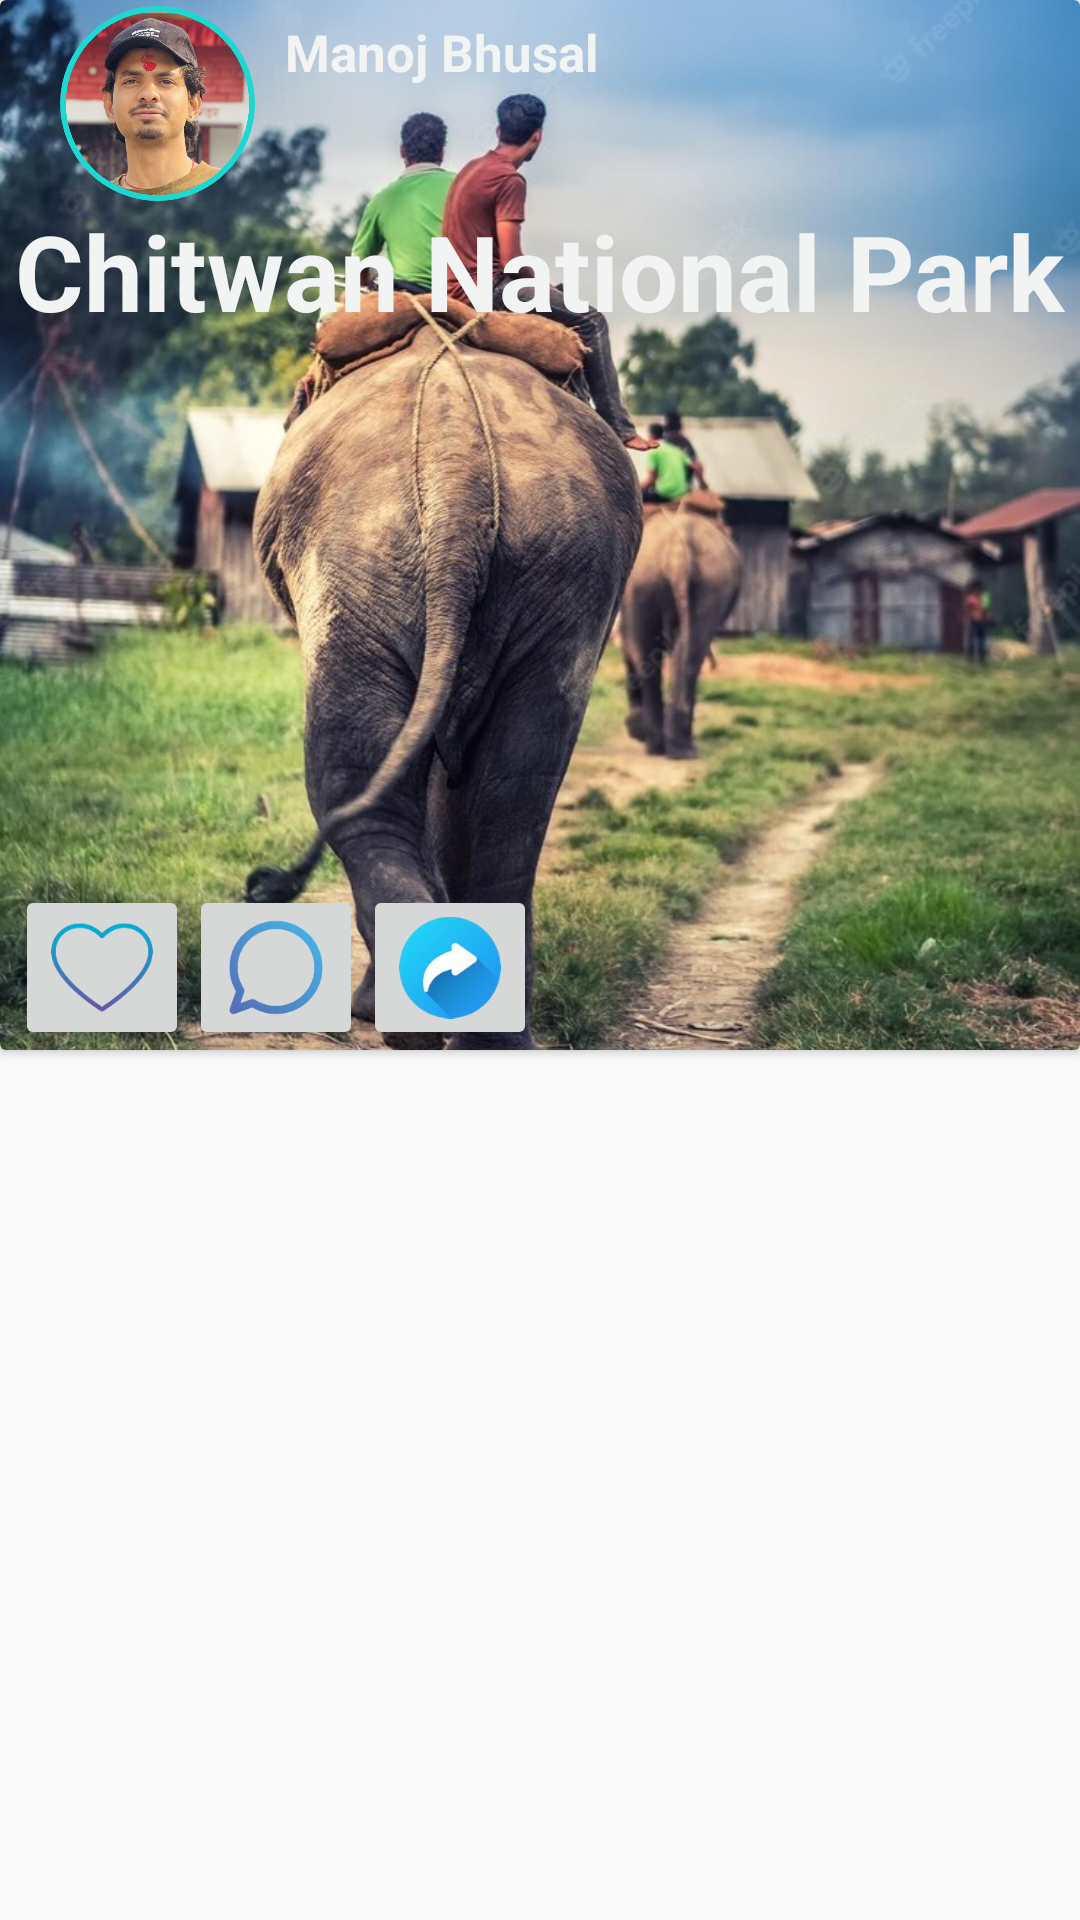

Point at icon controls on the screen. Image size 1080 x 1920, points as (x=x, y=y).
Comment Button: (x=276, y=967)
Like Button: (x=102, y=967)
profilepic: (x=157, y=103)
Share Button: (x=450, y=967)
